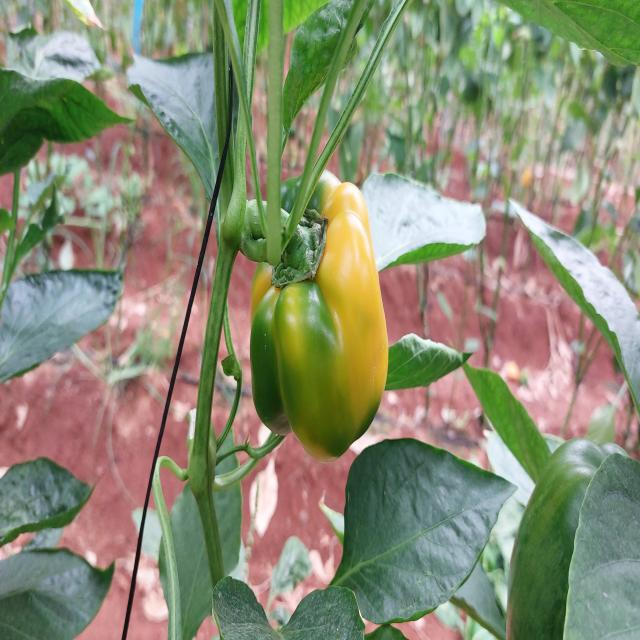GreenishYellow--Can-be-Harvested: (241, 153, 411, 460)
